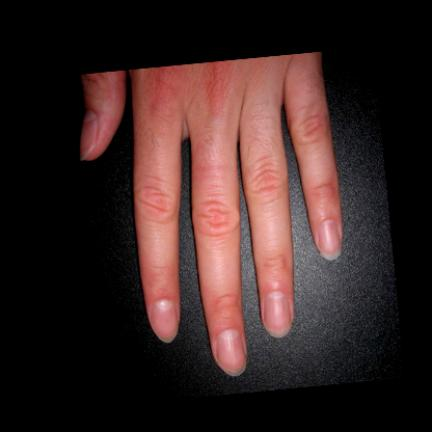Nail: (217, 330, 246, 376), (264, 291, 291, 338), (151, 300, 177, 343), (318, 220, 340, 261), (80, 110, 97, 160)
